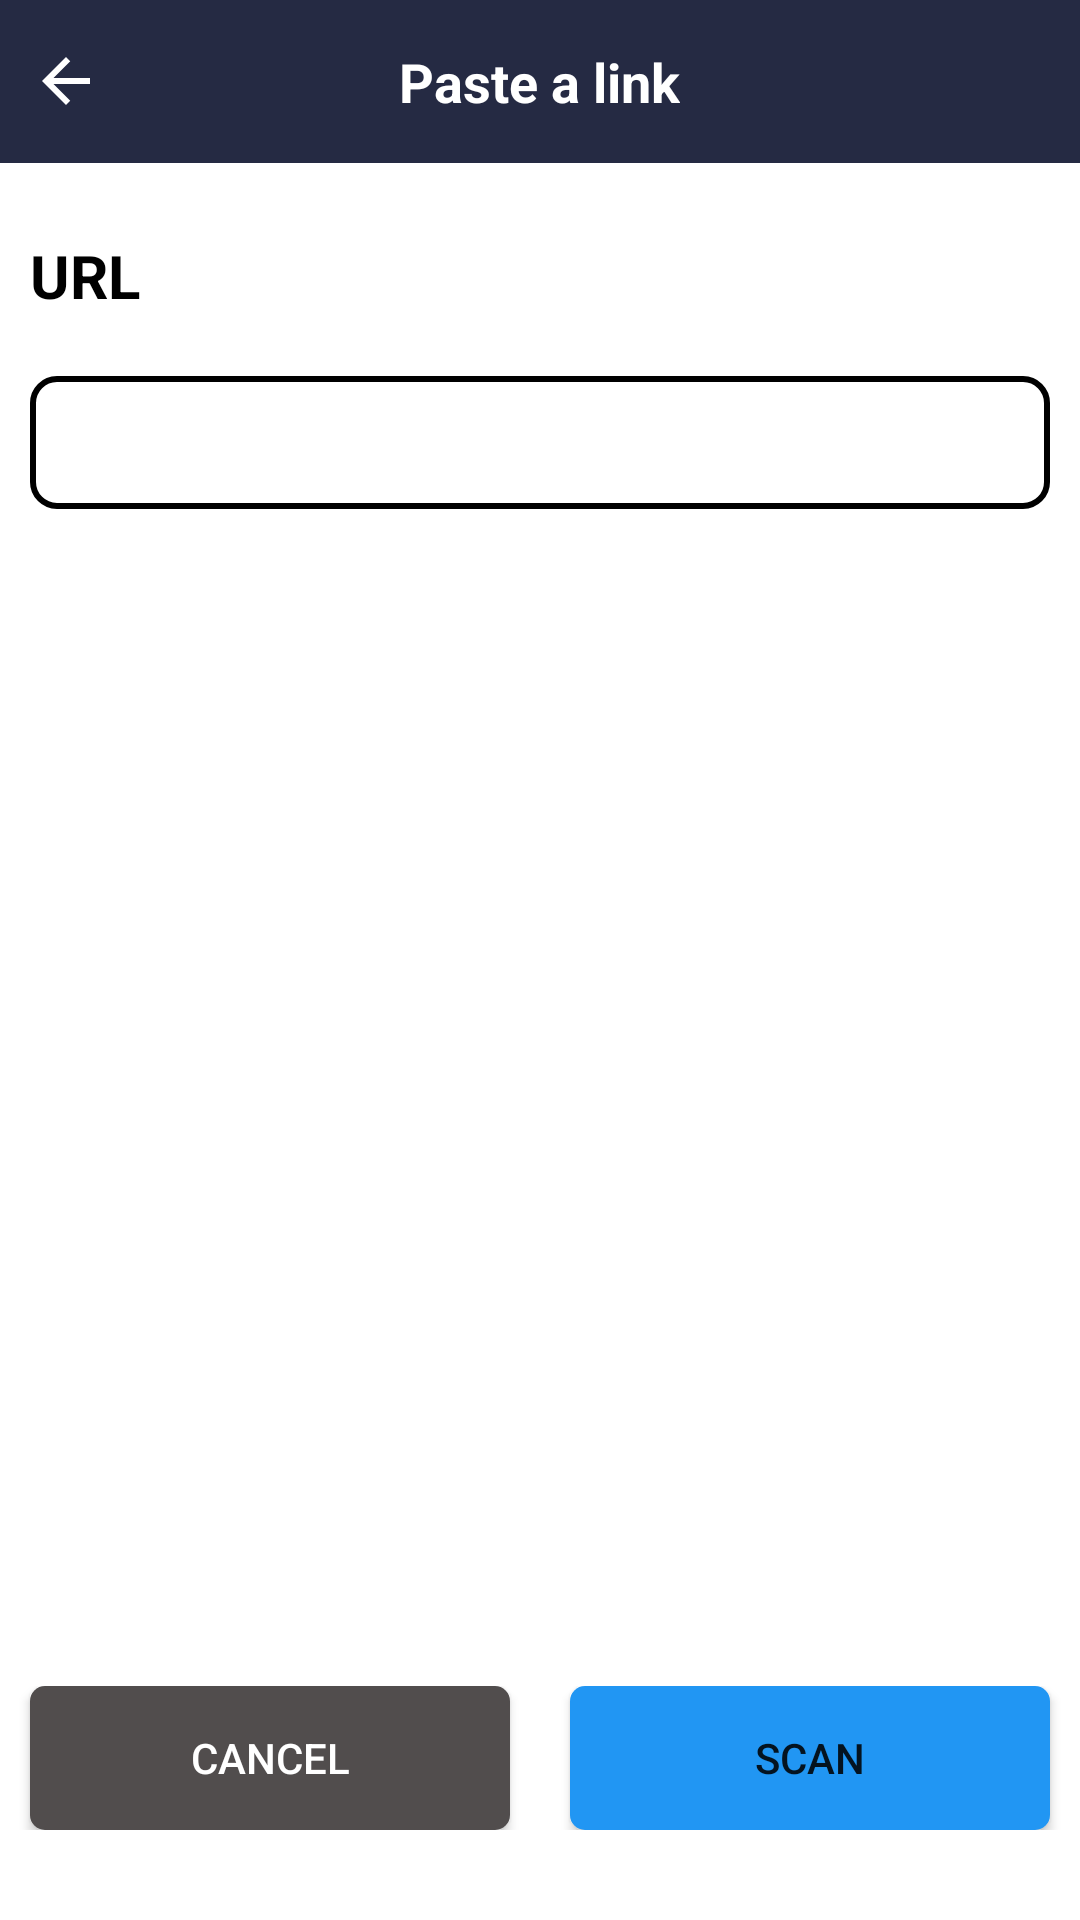

Icons on this 1080px×1920px Android screen, each with the point to tap as [x,y]:
arrow back: [66,81]
